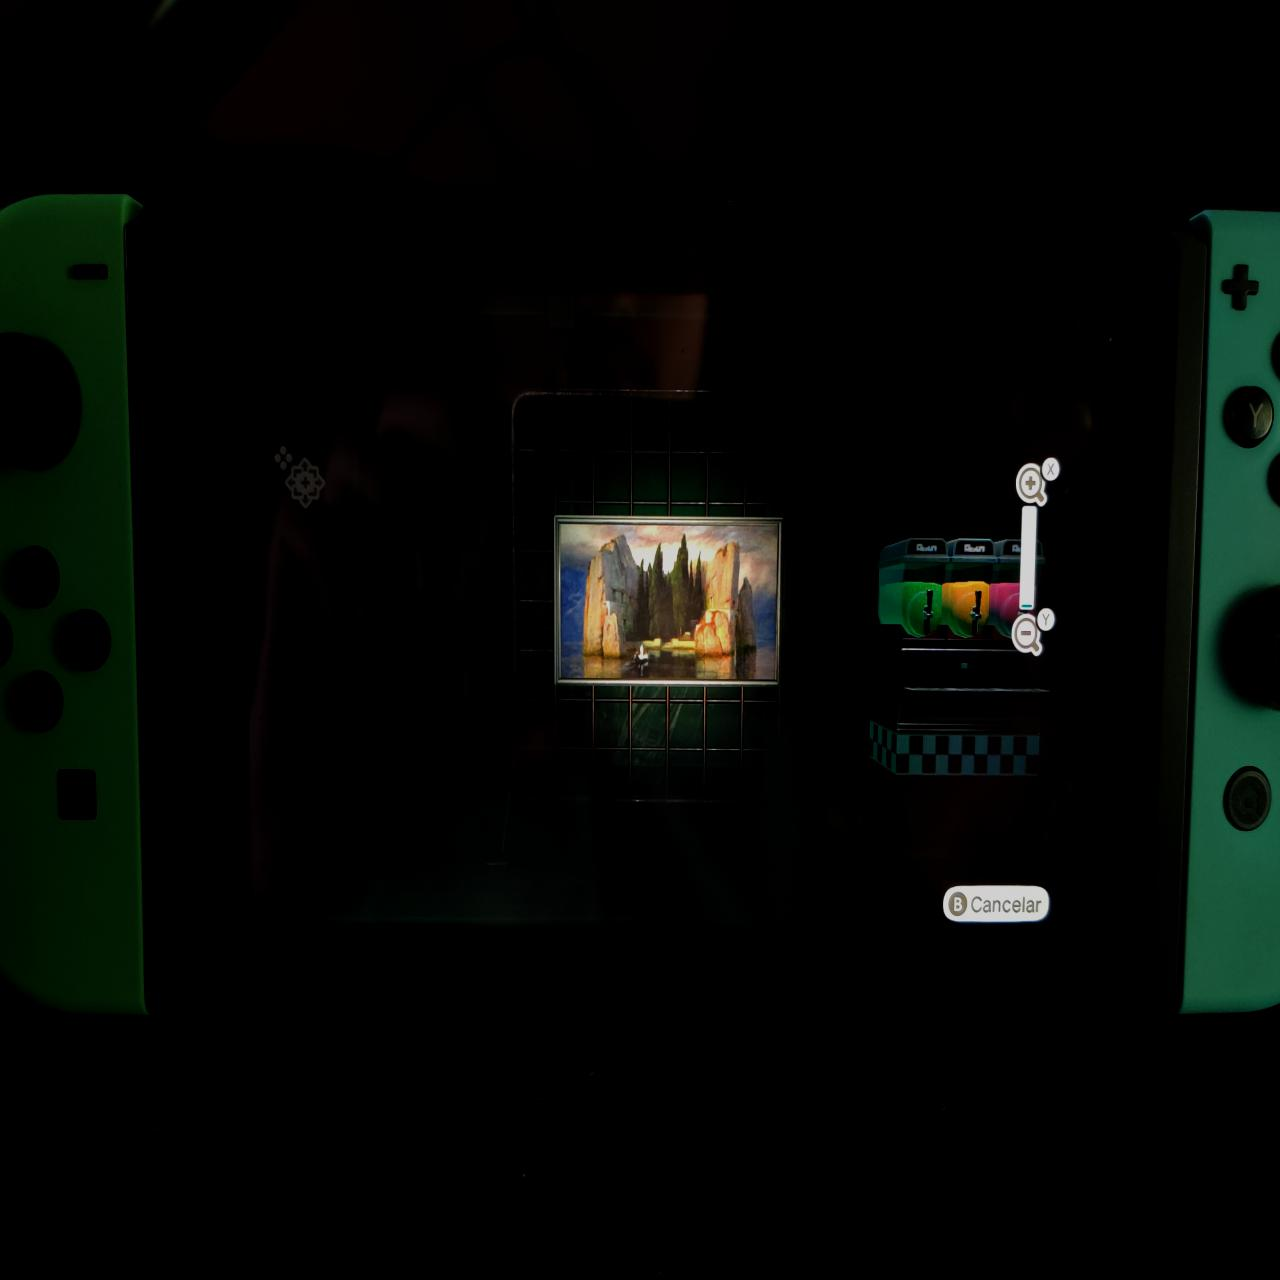IsleOfDead: (561, 523, 781, 685)
